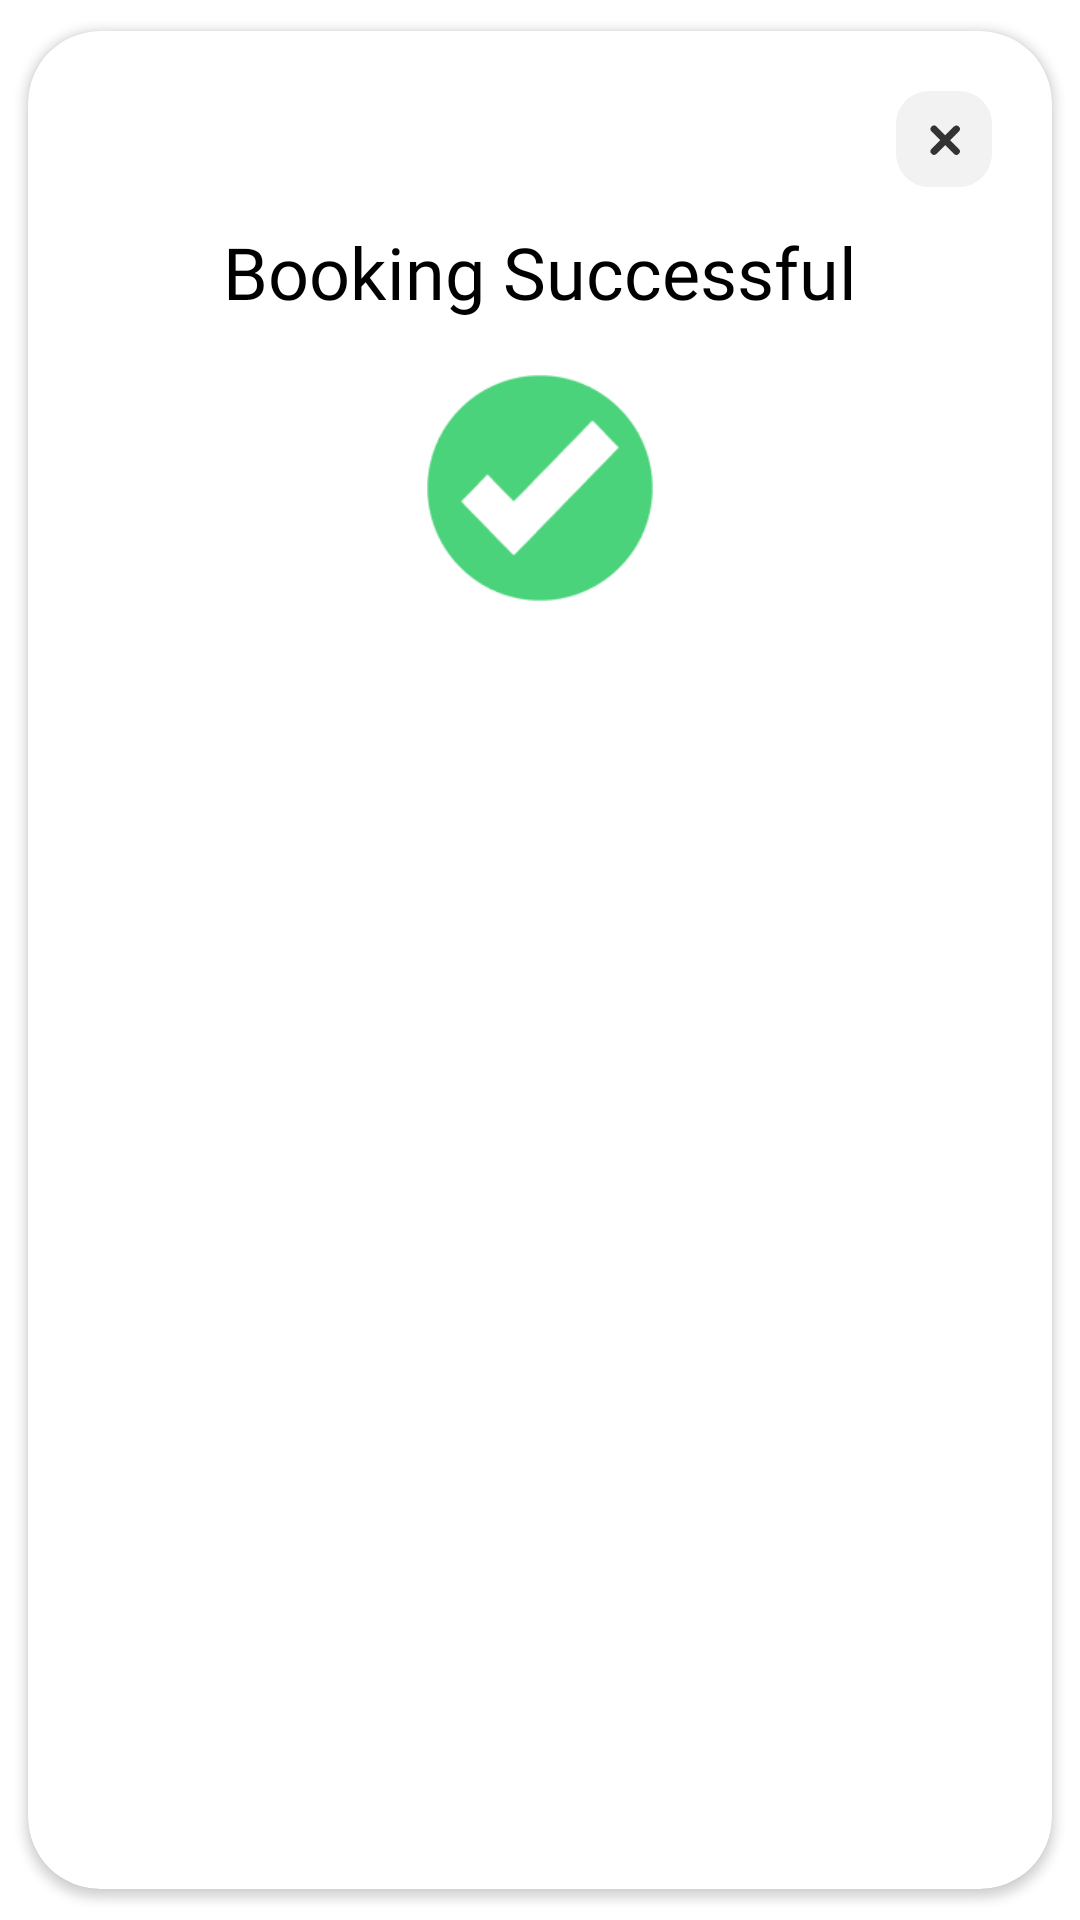

Screen size 1080px x 1920px. Icon name, then its center in pixels as (x,y):
close round: (945,140)
comfirm: (540,488)
